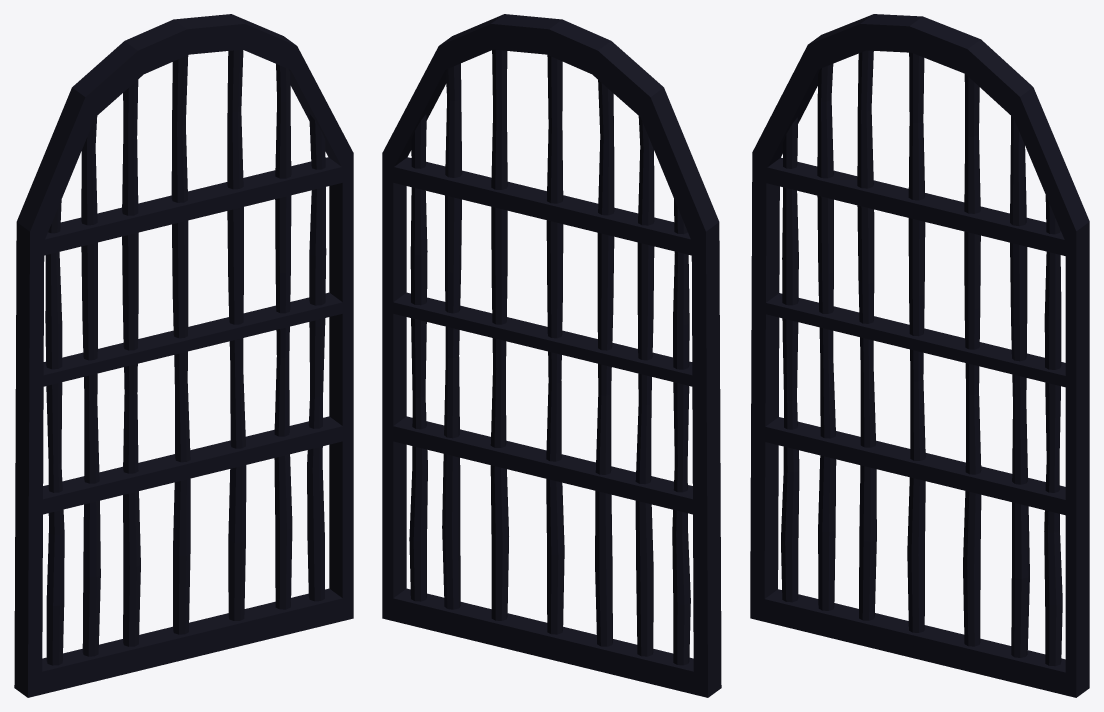
The model's file is door4.fbx.
3 views of the same model, side by side, from view 1: azimuth 30°, elevation 25°; view 2: azimuth 150°, elevation 25°; view 3: azimuth 330°, elevation 25° (orthographic).
Parts seen in each view (by area): view 1: door4; view 2: door4; view 3: door4.
Part boxes in pixels (left/top/right/bottom): door4: left=14, top=14, right=353, bottom=697; door4: left=382, top=14, right=721, bottom=697; door4: left=750, top=14, right=1089, bottom=697.
Size of the model in its own units: 115 by 213 by 8.25.
